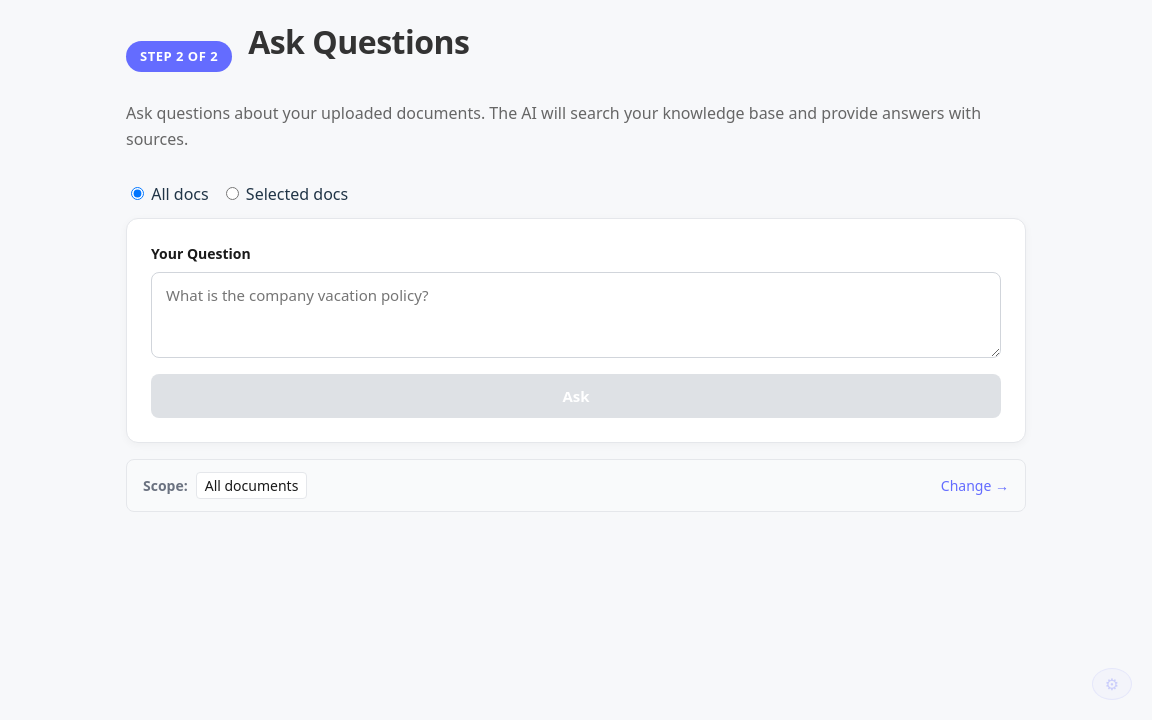
Query SSE behavior › dev mismatch detected when answer time not in evidence
This screenshot has width=1152, height=720.
Type "Check mismatch" into the text box with placeholder "What is the company vacation policy?" at (576,315), box [151,272,1001,358]
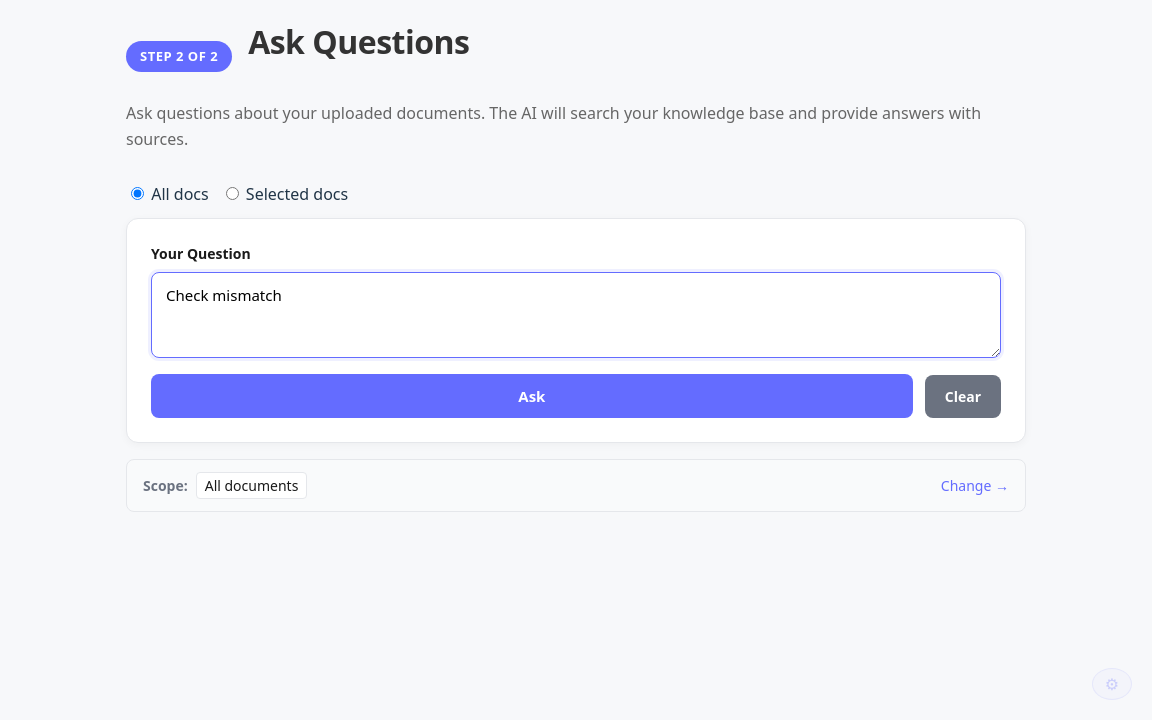
Click the button "Ask" at (532,396), box [151,374,913,418]
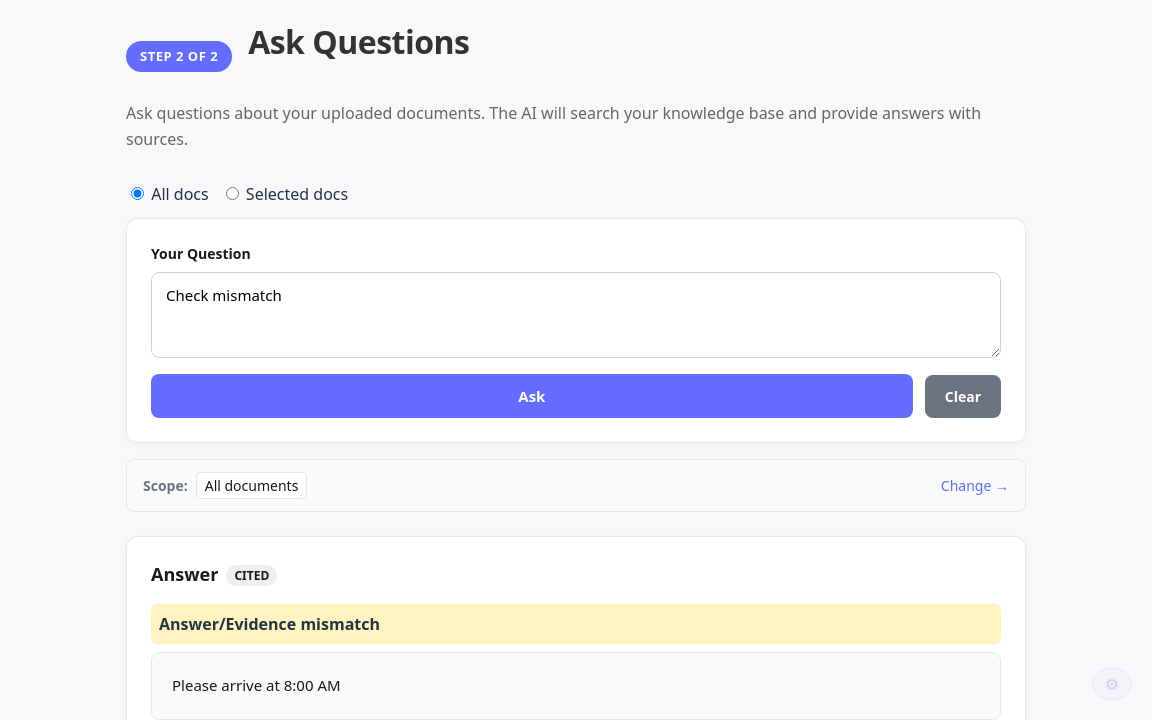
Now the text "Answer/Evidence mismatch" is shown, box [159,613,380,635]
